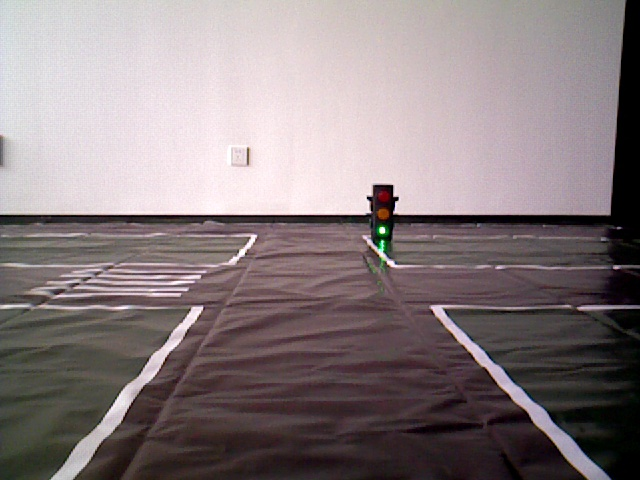green: (374, 187, 391, 236)
